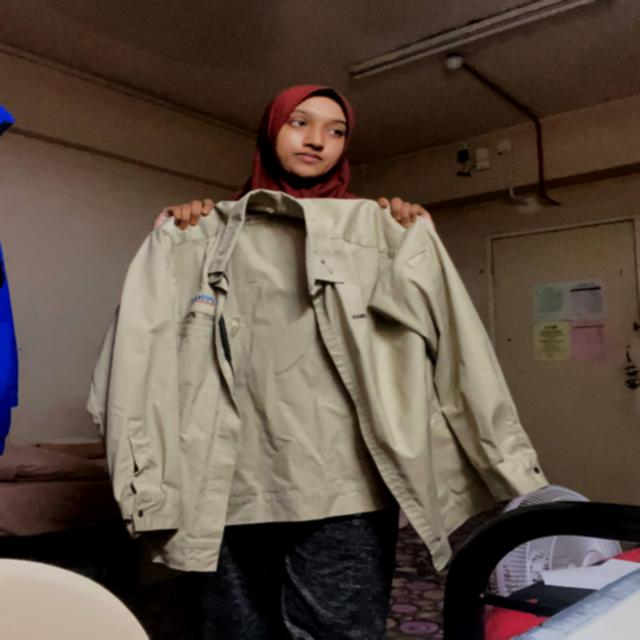person_without_labcoat: (89, 86, 548, 640)
